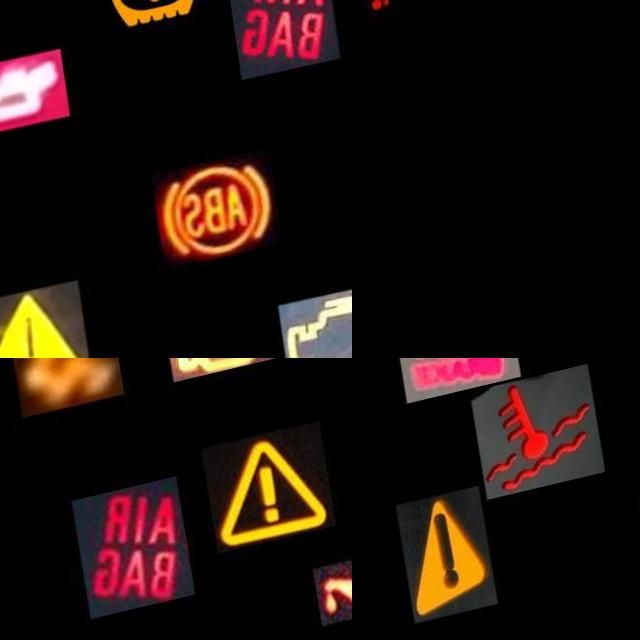Central Warning lamp: (193, 436, 324, 562), (379, 501, 477, 635), (0, 290, 78, 358)
Engine cooling system: (456, 385, 588, 515)
